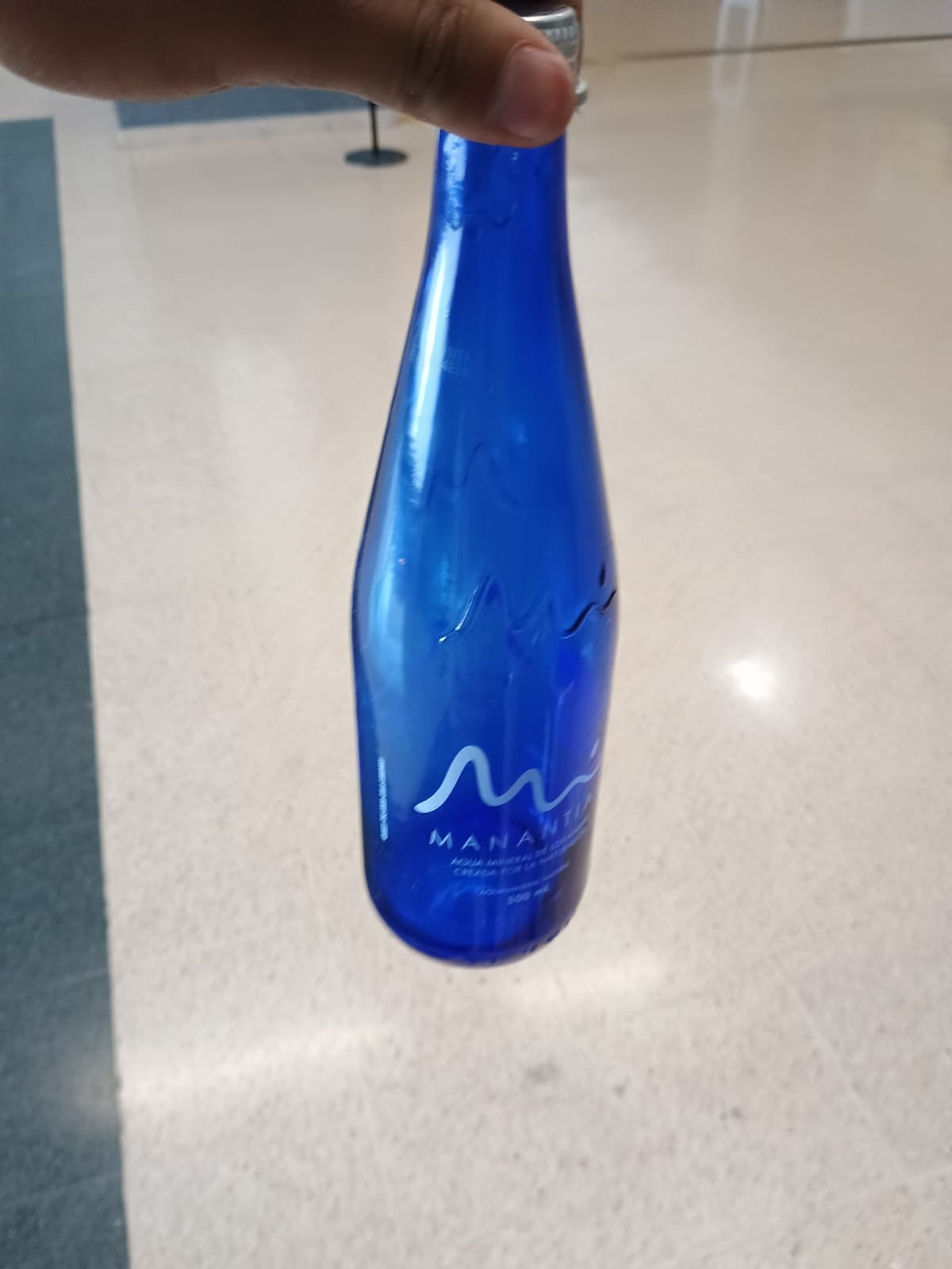Vidrio: (349, 127, 620, 966)
